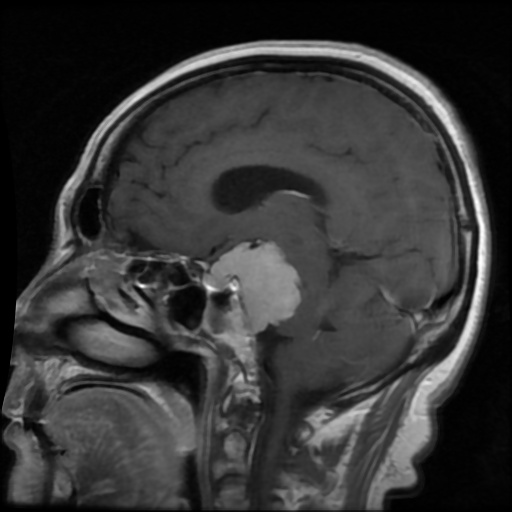meningioma: (207, 242, 303, 331)
